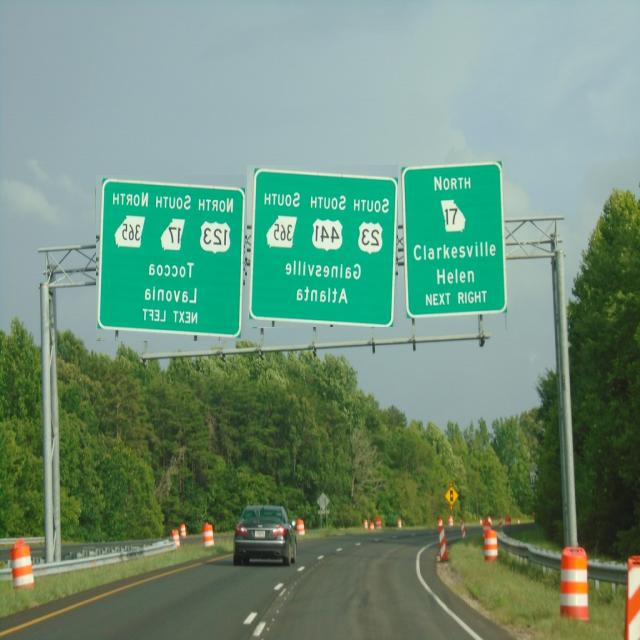street-signs: (96, 176, 245, 341), (248, 166, 398, 327), (403, 158, 507, 320)
